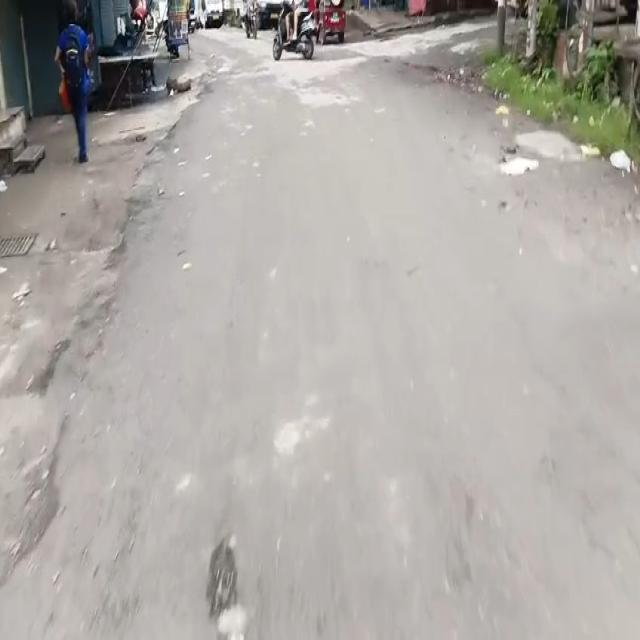road-pothole: (208, 535, 247, 626)
